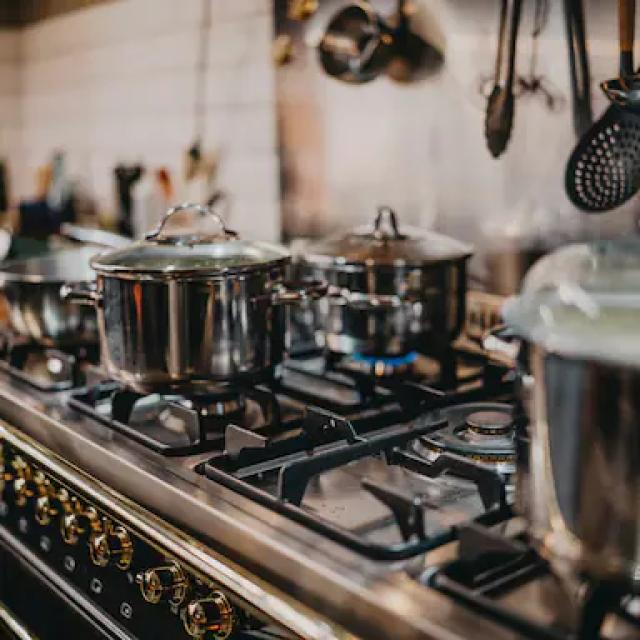knob_OFF: (322, 322, 449, 392)
knob_ON: (139, 372, 312, 445)
